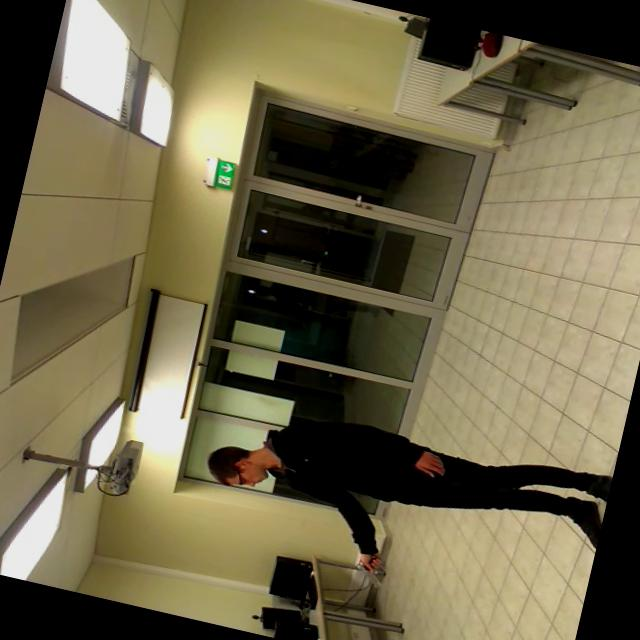handgun: (347, 544, 398, 590)
